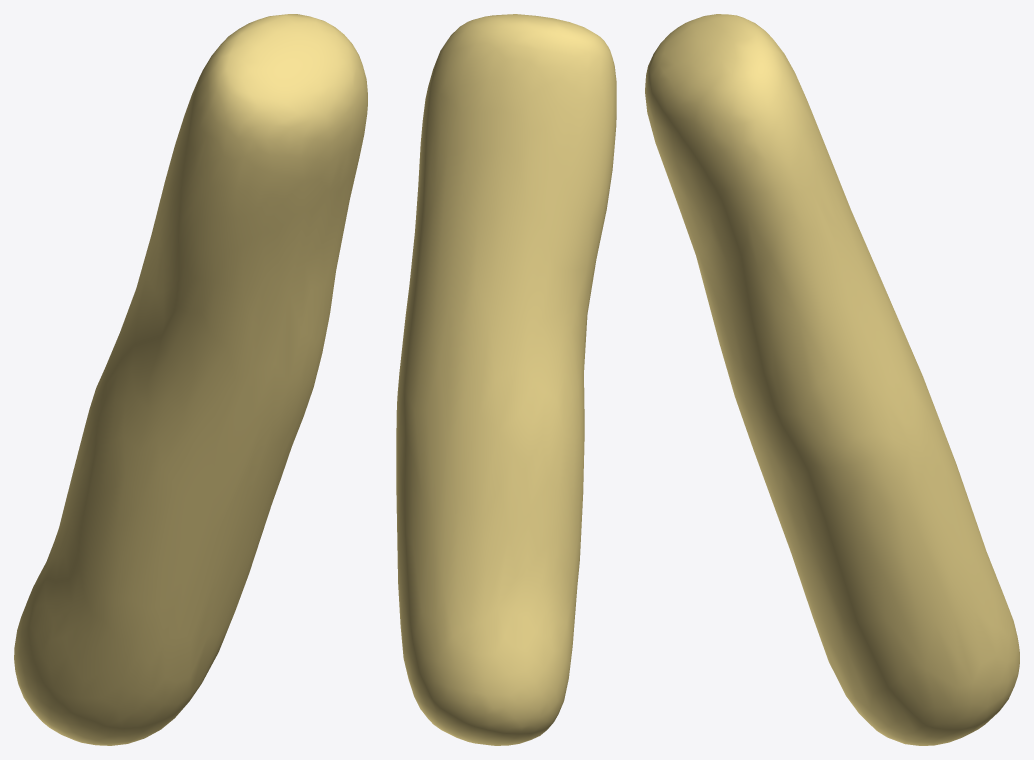
File: fma73736_mm3594.glb
The picture shows the model from 3 angles, left to right: view 1: azimuth 30°, elevation 25°; view 2: azimuth 150°, elevation 25°; view 3: azimuth 270°, elevation 25°; orthographic projection. The views are drawn at different scales.
Visible parts, largest first — view 1: FMA73736_MM3594; view 2: FMA73736_MM3594; view 3: FMA73736_MM3594.
Part boxes in pixels (bbox=[...]): FMA73736_MM3594: bbox=[14, 14, 367, 745]; FMA73736_MM3594: bbox=[396, 14, 616, 745]; FMA73736_MM3594: bbox=[645, 14, 1019, 745].
Size of the model in its own units: 0.00499 by 0.0152 by 0.007.
